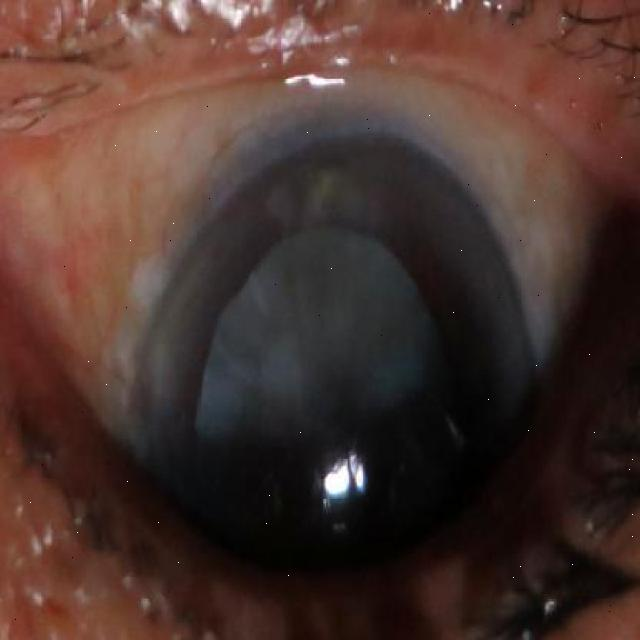Cataract: (119, 142, 542, 640)
